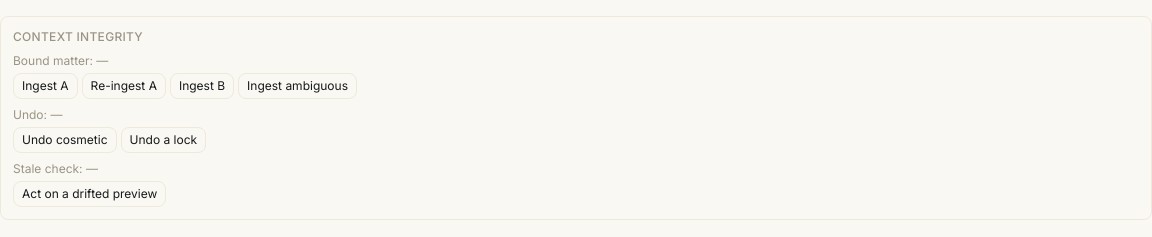
Test: undo-by-band, live › a cosmetic undo is silent (no confirm, no record)
Click the button with test id "ci-undo-cosmetic": (65, 140) [13, 127, 116, 153]
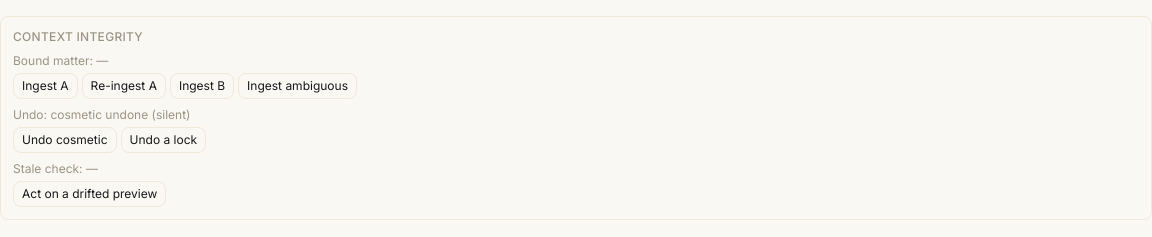
Now the text with test id "ci-undolog" shows "silent", box [50, 107, 190, 122]
